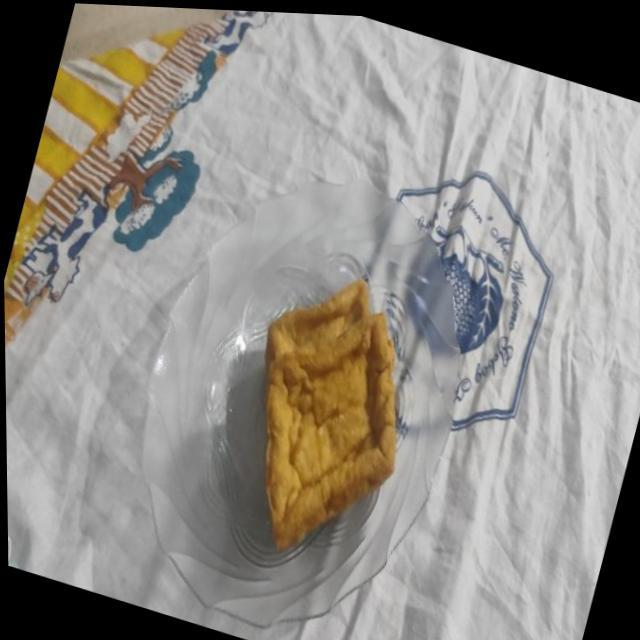tahu_goreng: (266, 313, 396, 549), (264, 278, 370, 372)
